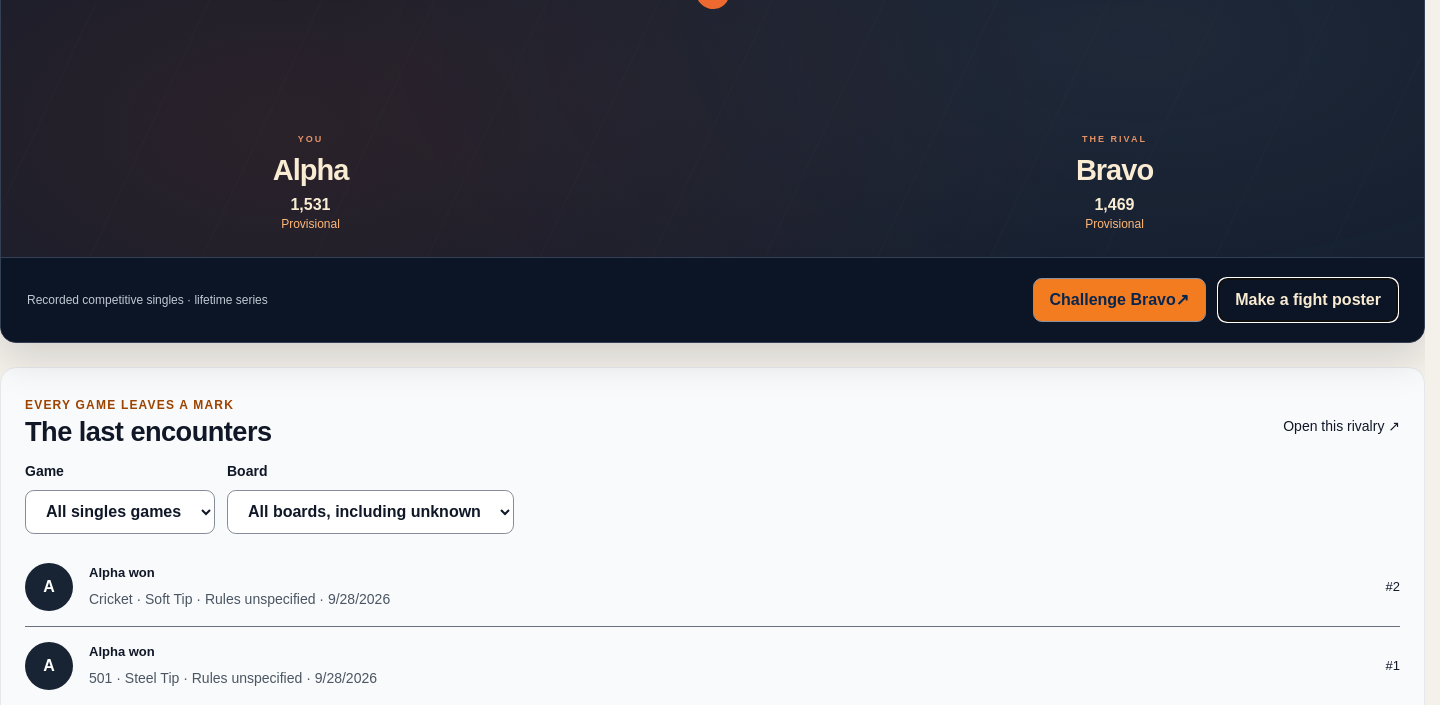
Test: returns focus to Make a fight poster after dialog close
(page scrolled)
What coordinates should you click on to do the following:
click the button "Make a fight poster"
I would click on:
 (1308, 300)
Its box is [1218,278,1398,322].
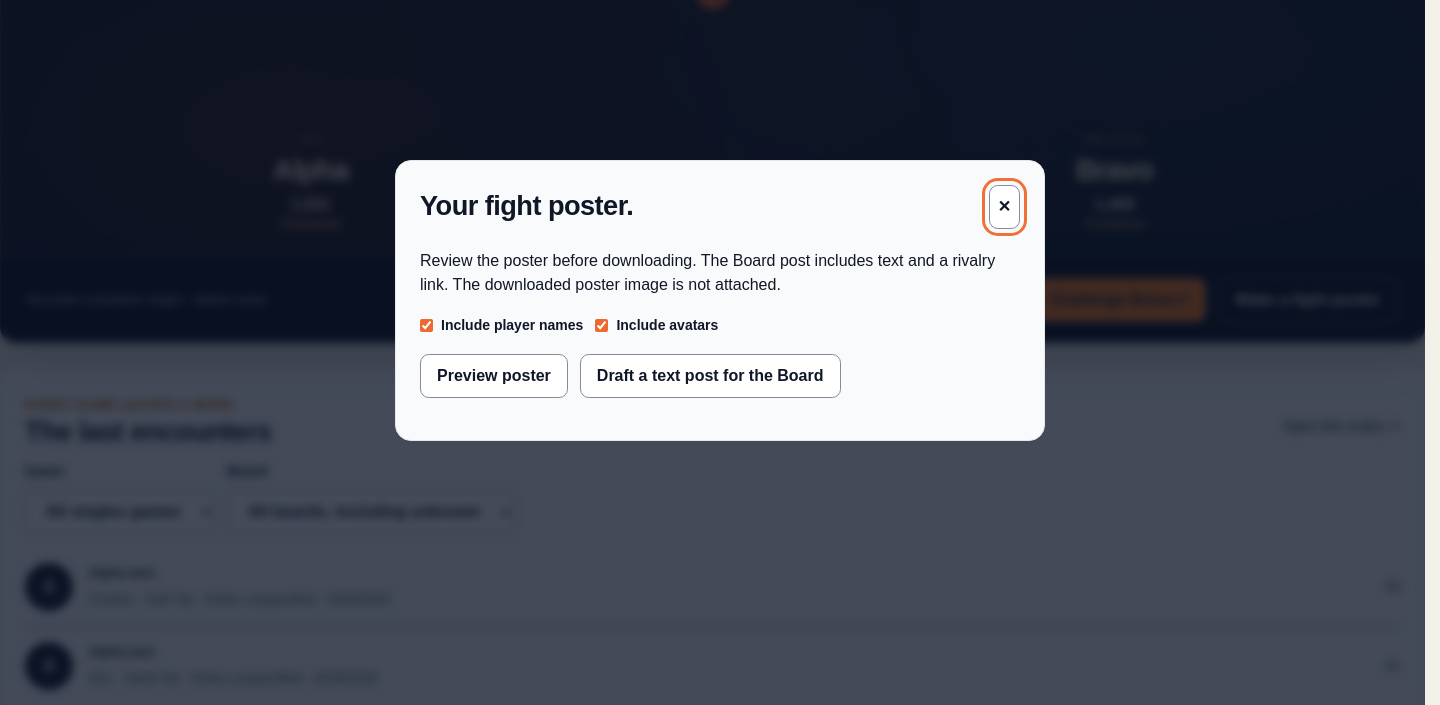
What coordinates should you click on to do the following:
click the button named "Close dialog"
I would click on:
 (1004, 206)
Its box is [989,184,1020,228].
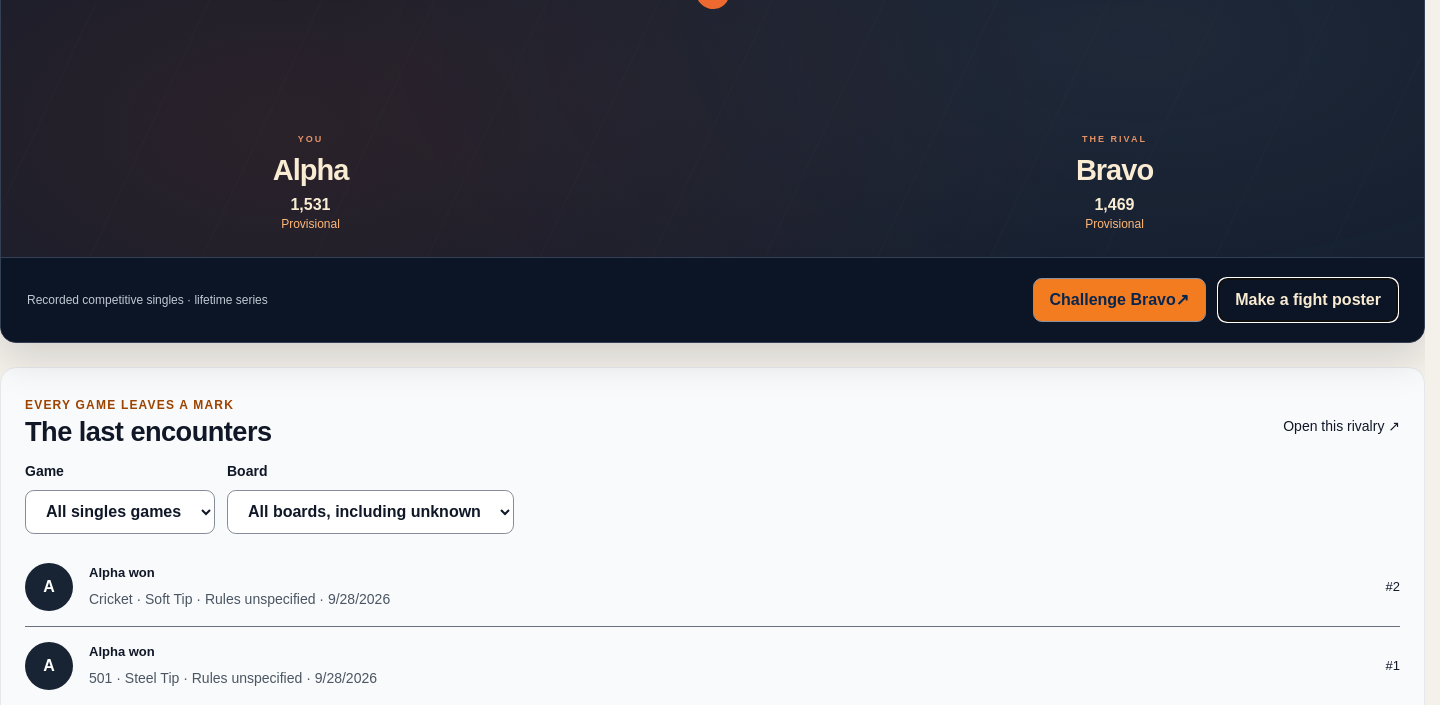
expect the dialog is gone: met
